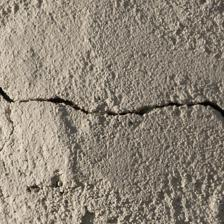Crack: (2, 42, 222, 82)
